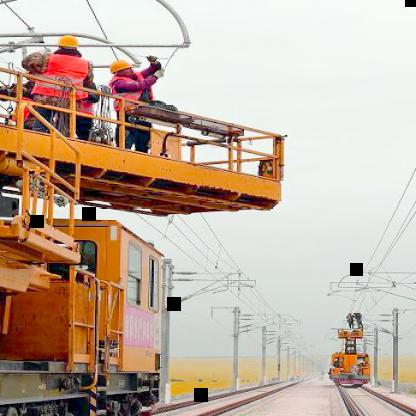helmet: (100, 58, 138, 80), (49, 36, 84, 58)
